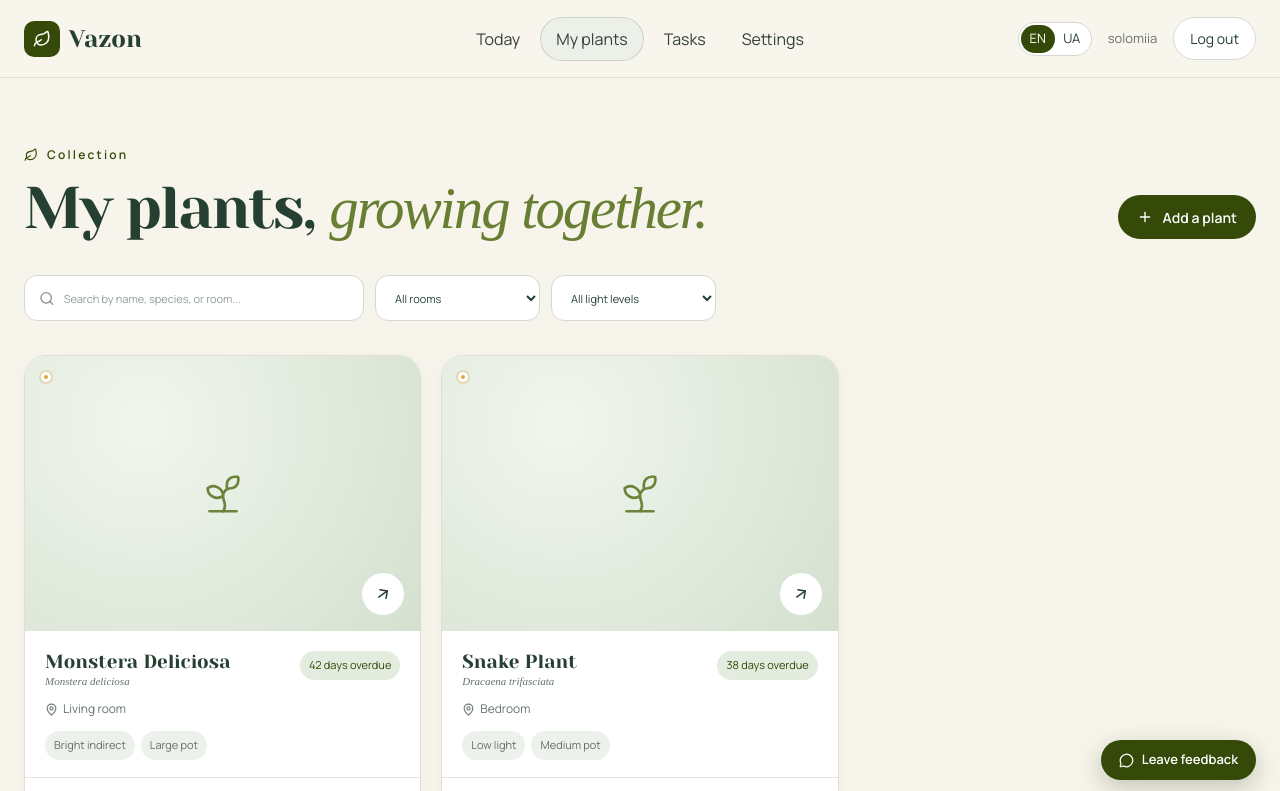
Scenario: Plants flow › lists plants, filters by search, and removes a plant after confirming
Expected: the link "Monstera Deliciosa" is shown, top-left (45, 651), bottom-right (230, 673)
Expected: the link "Snake Plant" is shown, top-left (462, 651), bottom-right (577, 673)
In the field with placeholder "Search by name, species, or room...": (206, 298) top-left (64, 291), bottom-right (349, 306), type "Snake"
(page scrolled)
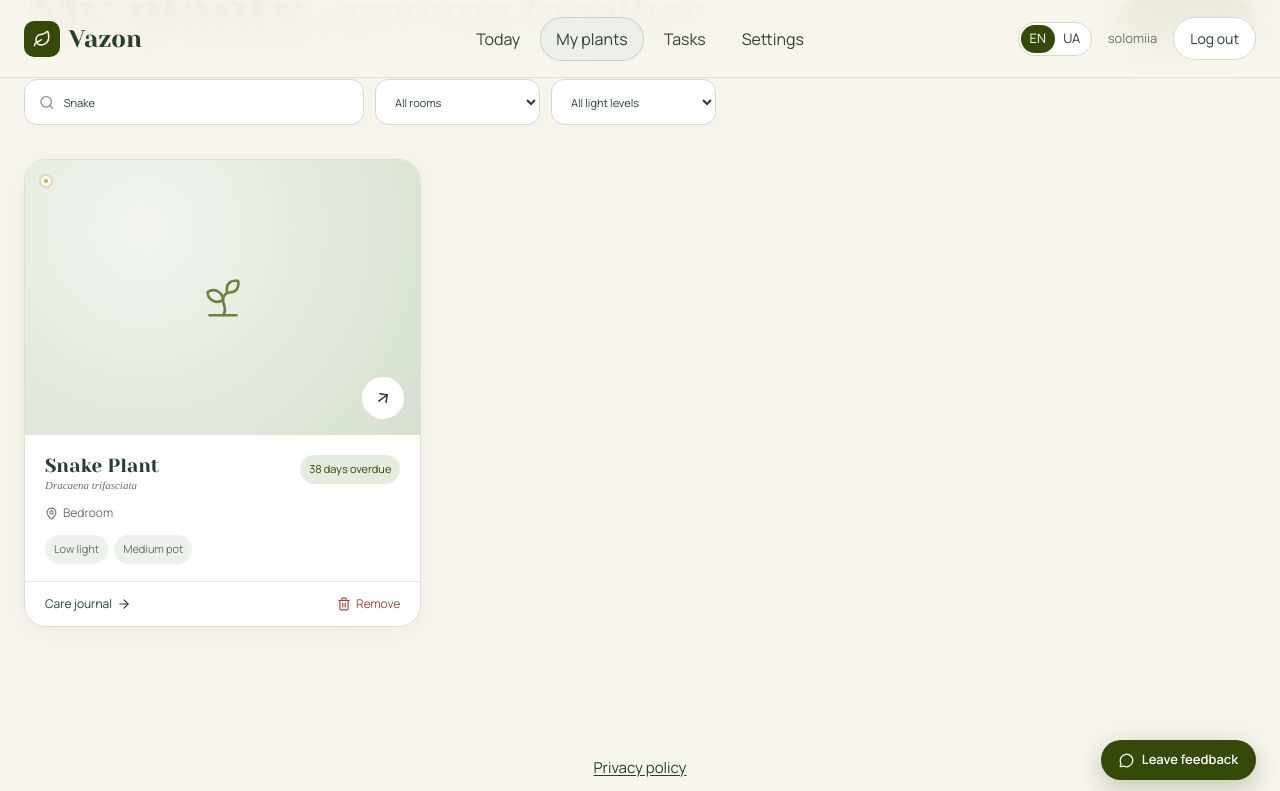
Expected: the link "Monstera Deliciosa" is gone
Click the button with aria-label "Remove: Snake Plant": click(369, 604) top-left (337, 595), bottom-right (400, 613)
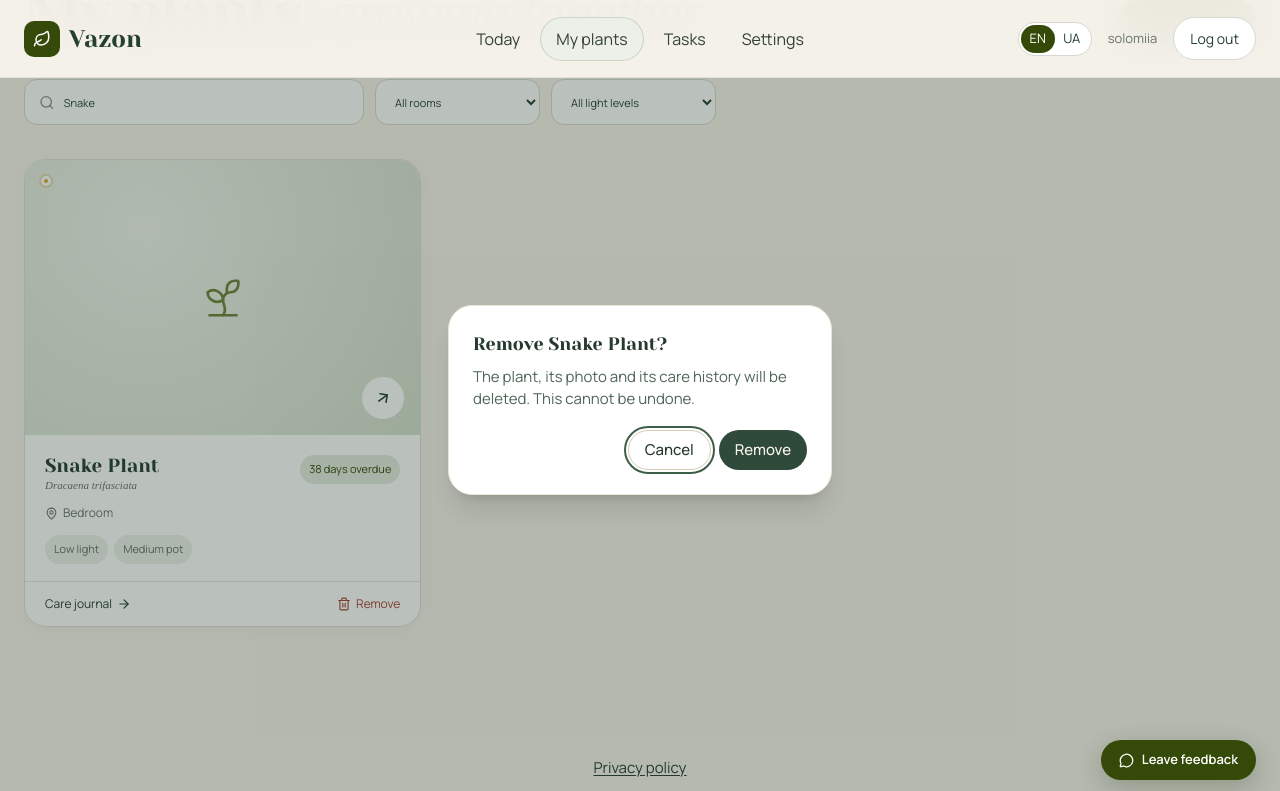
Click the button "Remove": click(763, 450) top-left (719, 430), bottom-right (807, 470)
(page scrolled)
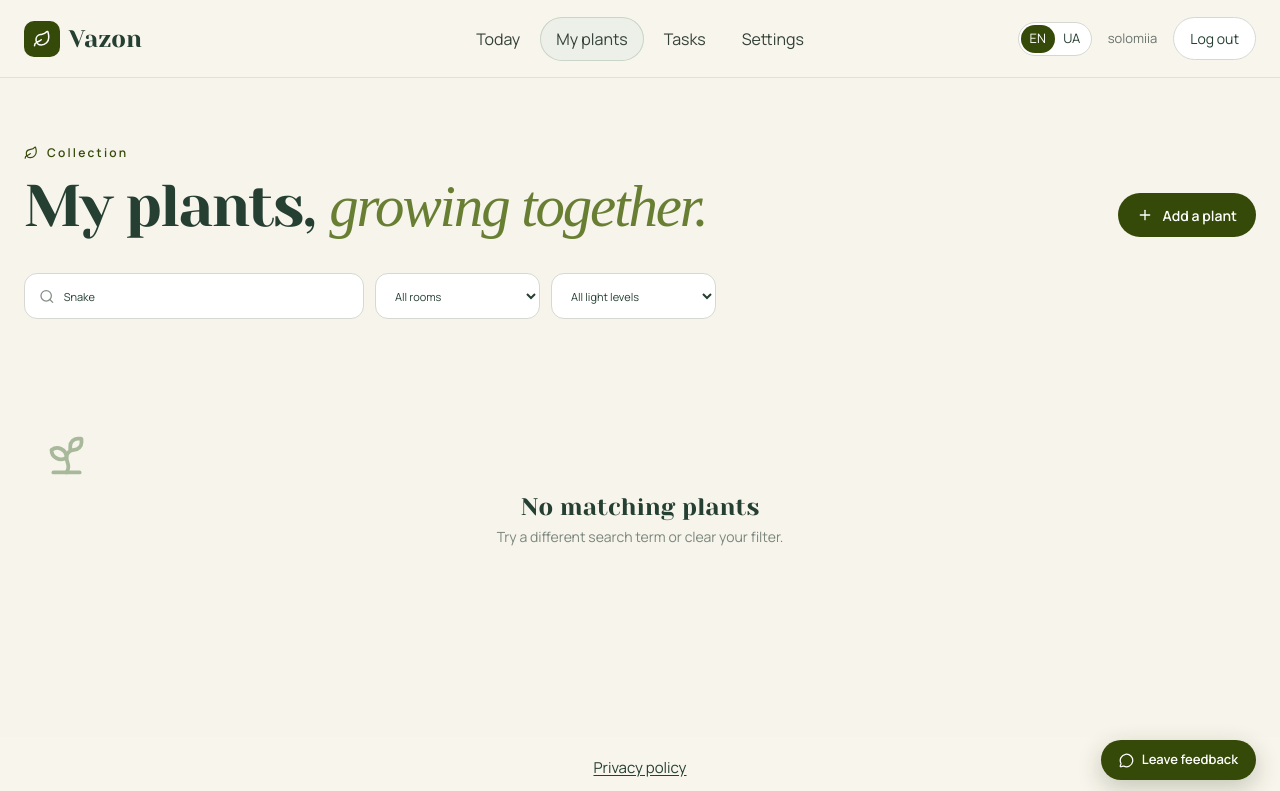
Expected: the heading "Snake Plant" is gone
